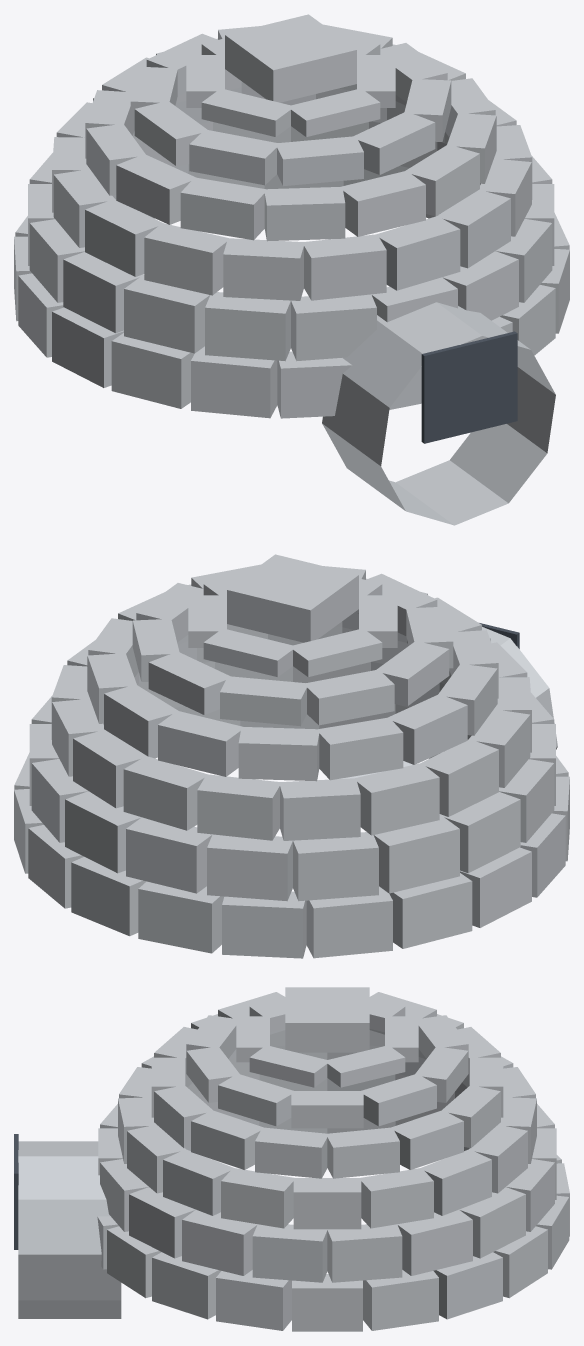
Rendered from igloo.glb.
3 renders of one model, top to bottom at view 1: azimuth 30°, elevation 25°; view 2: azimuth 150°, elevation 25°; view 3: azimuth 270°, elevation 25°, orthographic. The views are drawn at different scales.
Parts seen in each view (by area): view 1: igloo; view 2: igloo; view 3: igloo.
Boxes of the visible parts, x1,y1,x2,y2 form: igloo: [14, 14, 569, 525]; igloo: [14, 554, 569, 958]; igloo: [14, 987, 569, 1331].
Size of the model in its own units: 5.16 by 3.59 by 5.93.
